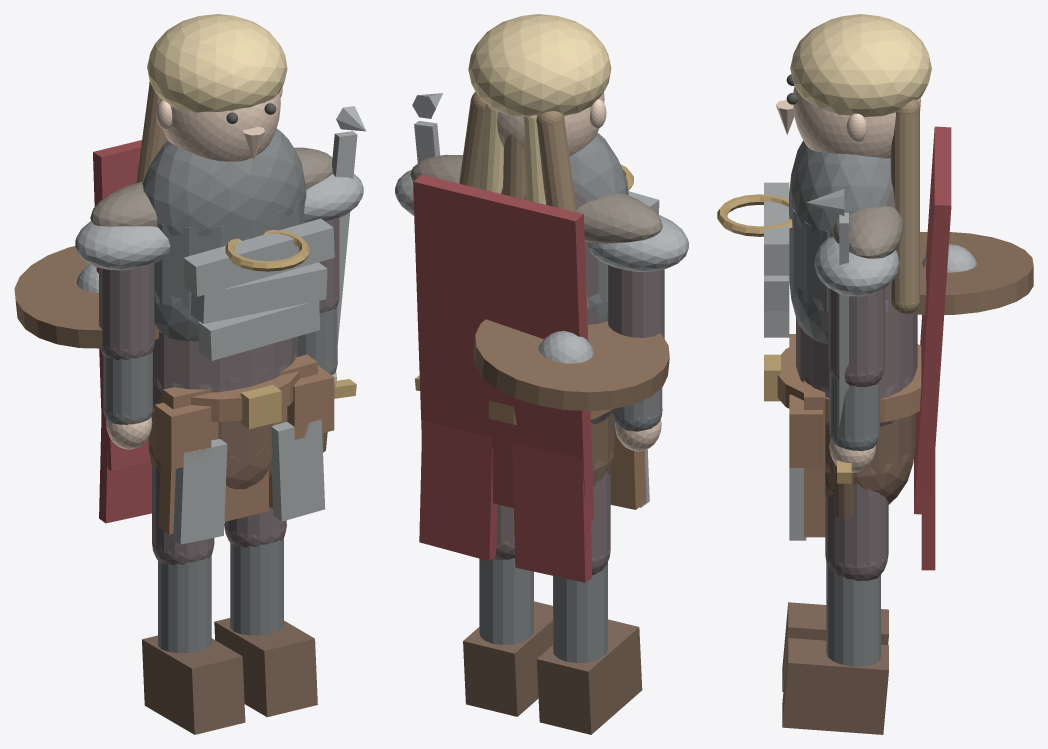
The model's file is Midgard_Hero_Valkyrie_Skin_V1_YUP.glb.
3 renders of one model, left to right at view 1: azimuth 30°, elevation 25°; view 2: azimuth 150°, elevation 25°; view 3: azimuth 270°, elevation 25°, orthographic.
Parts seen in each view (by area): view 1: ChestArmor, HairScalp, Boot_L, Boot_R, Shield, Torso, ChestPlate_0, Arm_L_Upper, Leg_R_Shin, Leg_L_Shin, ThighPlate_-1, ThighPlate_1 (+26 smaller); view 2: Cape, Shield, HairScalp, CapeTail_-0.25, CapeTail_0.25, Boot_L, Boot_R, Leg_L_Shin, Leg_R_Shin, Arm_L_Upper, ChestArmor, FurMantle_-0.34 (+20 smaller); view 3: HairScalp, ChestArmor, Boot_R, Cape, Shield, HairLock_4, Leg_R_Thigh, Leg_R_Shin, Torso, Arm_R_Upper, Pelvis, Head (+19 smaller).
Part boxes in pixels (left/top/right/bottom): ChestArmor: left=142, top=128, right=306, bottom=341; HairScalp: left=147, top=14, right=287, bottom=112; Boot_L: left=142, top=635, right=245, bottom=734; Boot_R: left=214, top=618, right=317, bottom=717; Shield: left=14, top=246, right=158, bottom=348; Torso: left=152, top=332, right=297, bottom=412; ChestPlate_0: left=183, top=218, right=334, bottom=296; Arm_L_Upper: left=99, top=263, right=155, bottom=360; Leg_R_Shin: left=230, top=538, right=283, bottom=635; Leg_L_Shin: left=158, top=555, right=211, bottom=652; ThighPlate_-1: left=172, top=439, right=227, bottom=544; ThighPlate_1: left=271, top=419, right=325, bottom=521; Cape: left=413, top=174, right=594, bottom=520; Shield: left=473, top=319, right=669, bottom=410; HairScalp: left=468, top=14, right=611, bottom=117; CapeTail_-0.25: left=512, top=442, right=592, bottom=582; CapeTail_0.25: left=419, top=420, right=497, bottom=561; Boot_L: left=536, top=619, right=642, bottom=734; Boot_R: left=463, top=601, right=552, bottom=716; Leg_L_Shin: left=553, top=562, right=607, bottom=662; Leg_R_Shin: left=479, top=558, right=533, bottom=644; Arm_L_Upper: left=607, top=264, right=664, bottom=338; ChestArmor: left=569, top=132, right=628, bottom=322; FurMantle_-0.34: left=576, top=193, right=662, bottom=243; HairScalp: left=790, top=14, right=931, bottom=117; ChestArmor: left=789, top=140, right=890, bottom=344; Boot_R: left=782, top=638, right=888, bottom=734; Cape: left=914, top=126, right=951, bottom=514; Shield: left=915, top=232, right=1033, bottom=314; HairLock_4: left=890, top=99, right=919, bottom=314; Leg_R_Thigh: left=825, top=483, right=888, bottom=580; Leg_R_Shin: left=826, top=562, right=880, bottom=666; Torso: left=796, top=177, right=917, bottom=426; Arm_R_Upper: left=828, top=288, right=885, bottom=387; Pelvis: left=825, top=413, right=915, bottom=504; Head: left=793, top=86, right=920, bottom=158.
Bounding box in the file's own units: 1.62 × 3.57 × 1.5.
